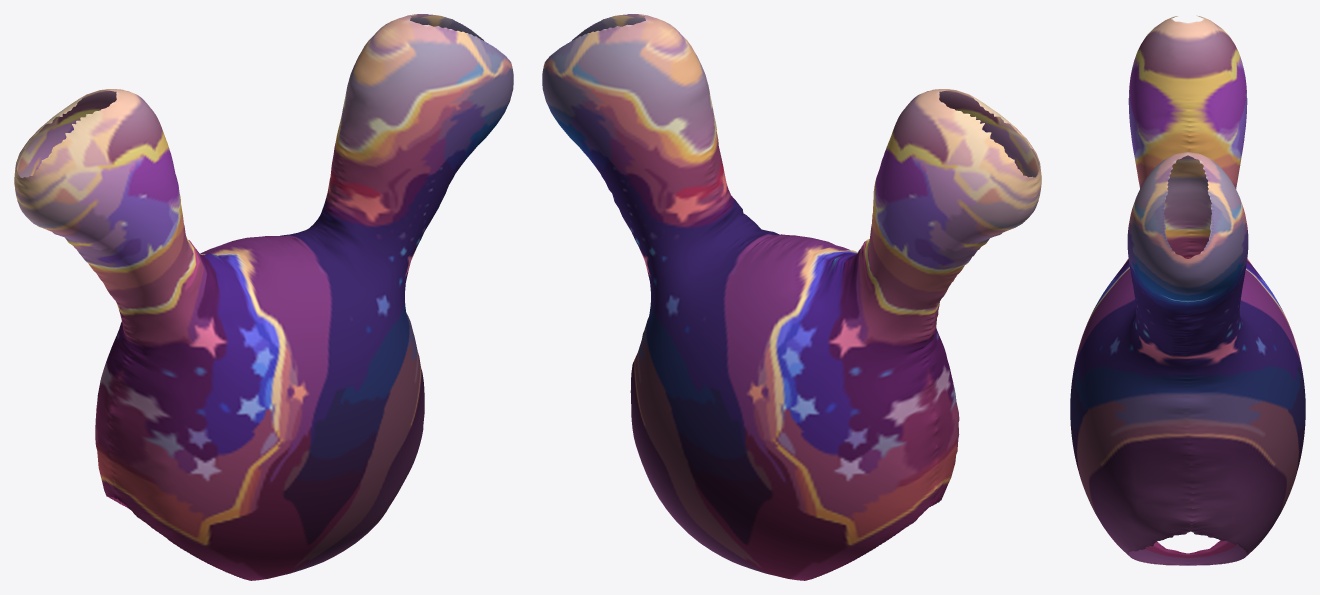
File: Bonny.fbx
3 renders of one model, left to right at view 1: azimuth 30°, elevation 25°; view 2: azimuth 150°, elevation 25°; view 3: azimuth 270°, elevation 25°, orthographic. The views are drawn at different scales.
Visible parts, largest first — view 1: Bonny; view 2: Bonny; view 3: Bonny.
Boxes of the visible parts, left/top/right/bottom form: Bonny: left=14, top=14, right=513, bottom=580; Bonny: left=542, top=14, right=1041, bottom=580; Bonny: left=1070, top=15, right=1305, bottom=565.
Size of the model in its own units: 783 by 786 by 355.
